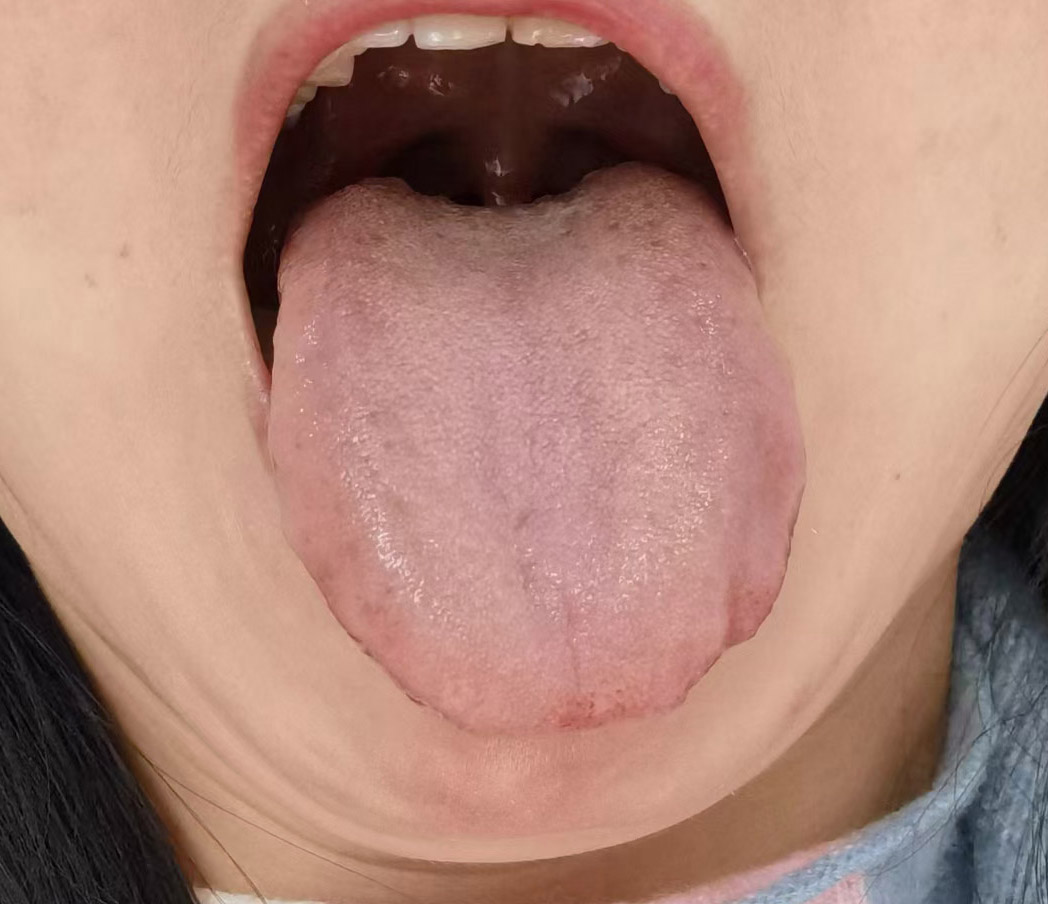baitaishe: (270, 163, 807, 734)
